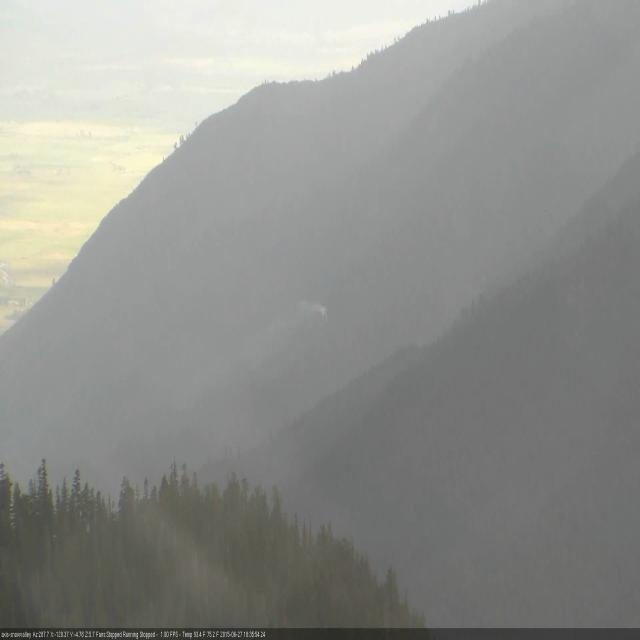smoke: (300, 302, 327, 324)
